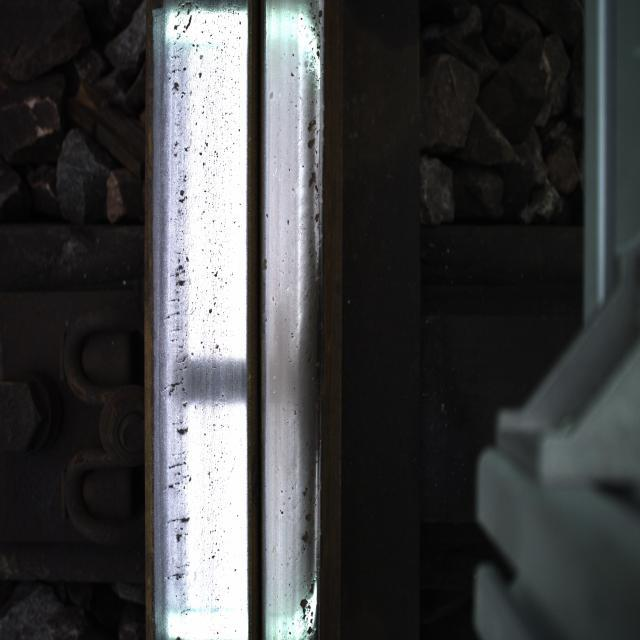scar: (155, 0, 216, 619)
